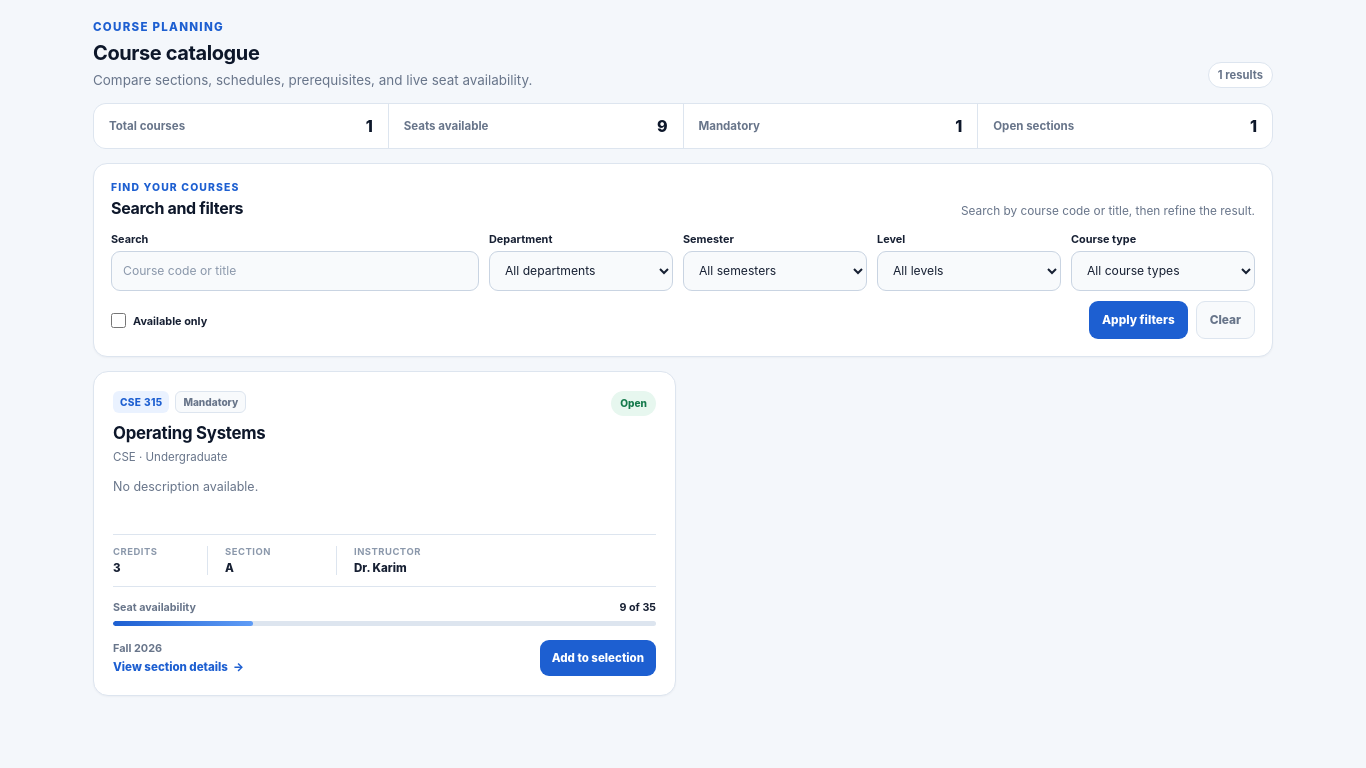
Test: StudentDashboardPage › adds an available course as a draft and updates the selection workspace
The width and height of the screenshot is (1366, 768).
(page scrolled)
Click the button "Add to selection" at (598, 658), box [540,640,656,676]
(page scrolled)
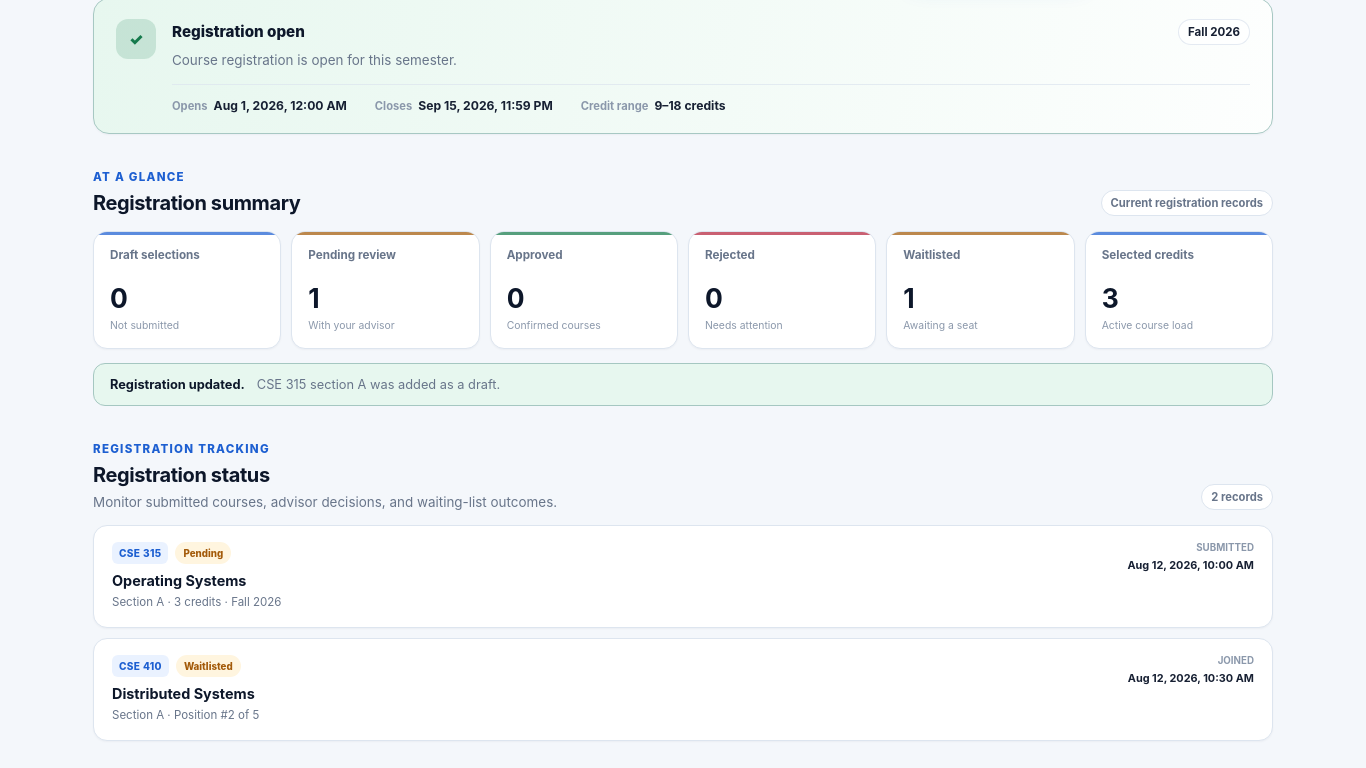
Now the text "CSE 315 section A was added as a draft." is shown, box [257,377,500,392]
